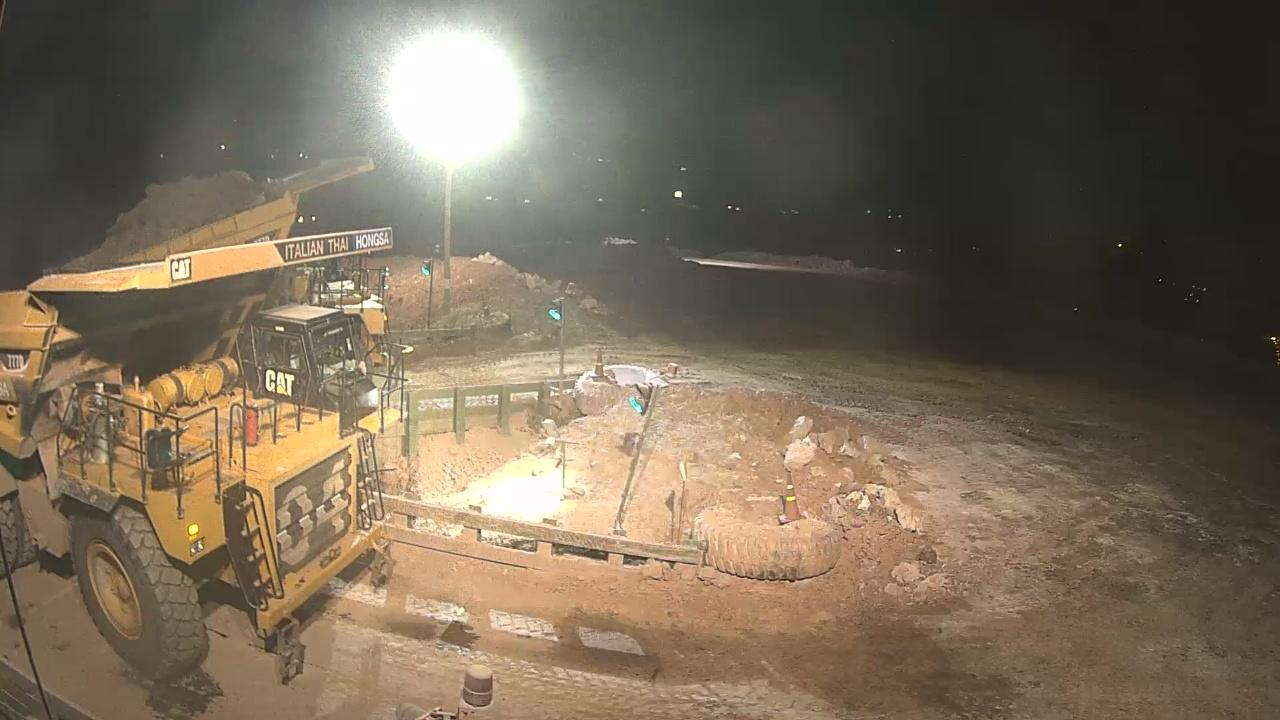dumping_soil: (28, 128, 382, 237)
front_number: (264, 458, 373, 569)
mining_truck: (2, 230, 429, 687)
